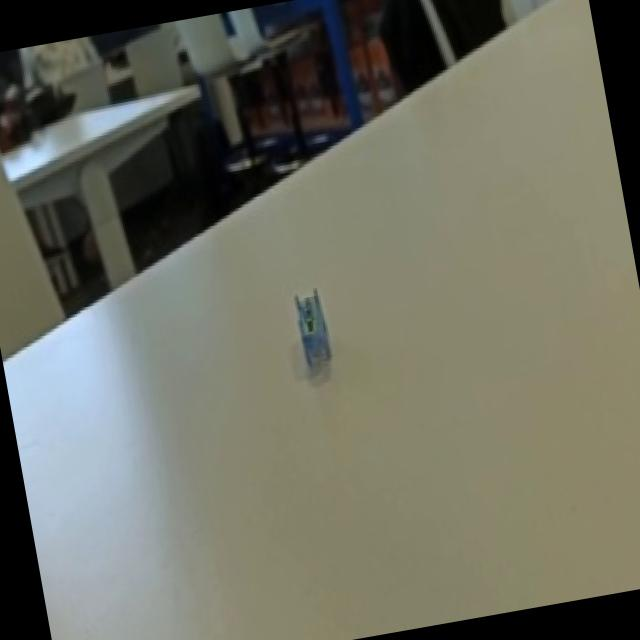3_NanoBug_Celeste: (274, 274, 355, 406)
